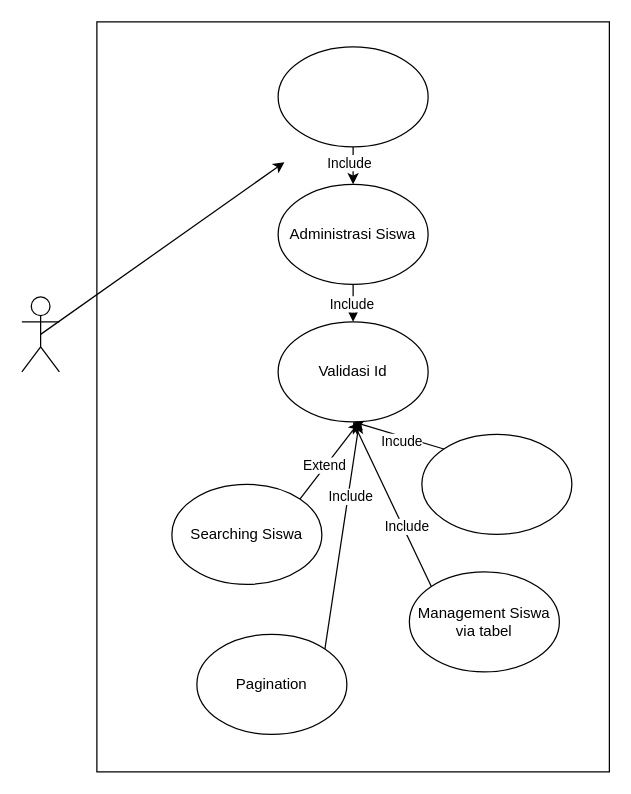
Image size: 631x794. Some labels were removed from this diagram. The centre of each missing label's shape, as x and y in pixels:
"CRUD Siswa" belongs at [496,483].
"Koneksi Database" belongs at [352,96].
"User" belongs at [40,334].
